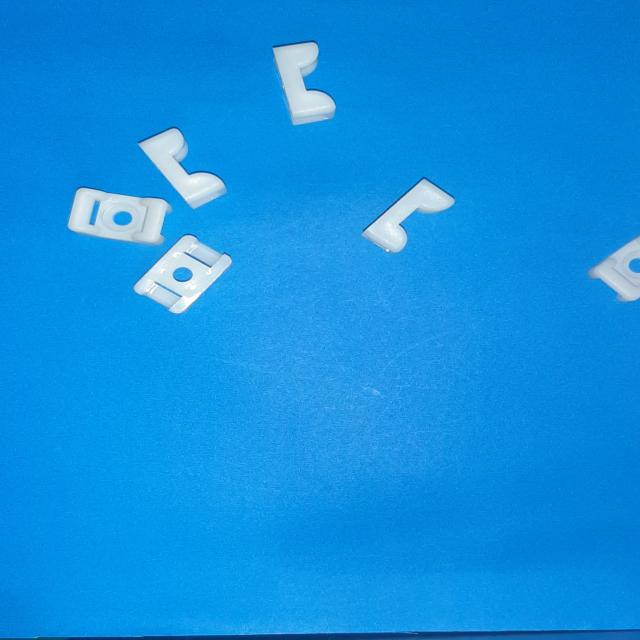false_1: (133, 235, 232, 314)
false_2: (138, 128, 227, 209), (362, 179, 455, 252), (273, 41, 335, 125)
true: (68, 188, 172, 245), (587, 236, 640, 301)
true_center: (113, 211, 132, 226)
